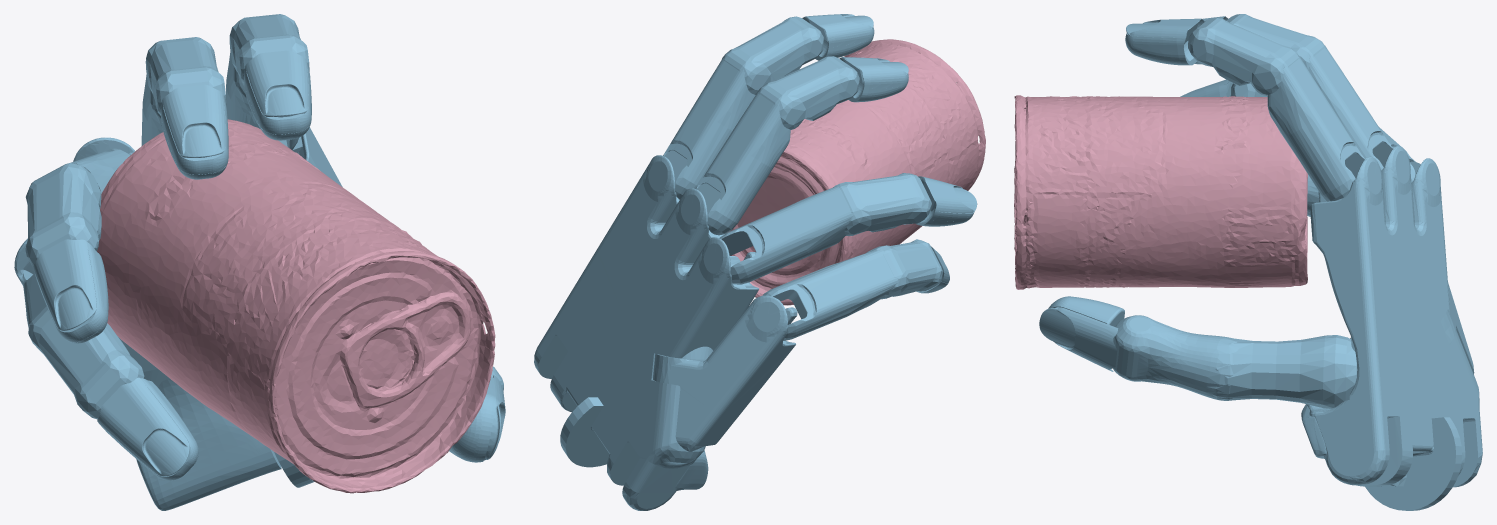
3 views of the same model, side by side, from view 1: azimuth 30°, elevation 25°; view 2: azimuth 150°, elevation 25°; view 3: azimuth 270°, elevation 25° (orthographic). The views are drawn at different scales.
Visible parts, largest first — view 1: tomato_soup_can.stl, world; view 2: world, tomato_soup_can.stl; view 3: world, tomato_soup_can.stl.
Part boxes in pixels (x1,y1,x2,y2): tomato_soup_can.stl: (97,119,495,493); world: (14,14,505,510); world: (534,14,977,510); tomato_soup_can.stl: (728,39,985,305); world: (1039,14,1482,510); tomato_soup_can.stl: (1014,95,1307,289).
Bounding box in the file's own units: 0.1497 × 0.1692 × 0.1625.
